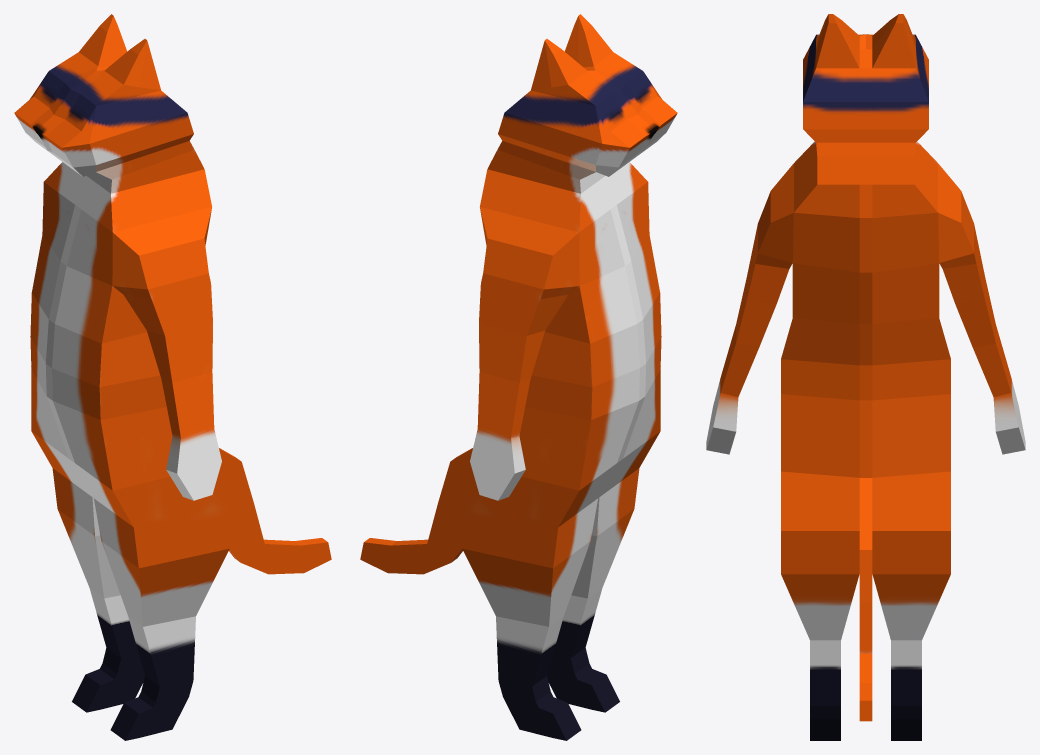
Rendered from Cat With Texture.fbx.
The picture shows the model from 3 angles, left to right: view 1: azimuth 30°, elevation 25°; view 2: azimuth 150°, elevation 25°; view 3: azimuth 270°, elevation 25°; orthographic projection. The views are drawn at different scales.
Visible parts, largest first — view 1: Cat; view 2: Cat; view 3: Cat.
Part boxes in pixels (x1,y1,x2,y2): Cat: (14, 14, 331, 740); Cat: (360, 14, 677, 740); Cat: (706, 14, 1025, 740).
Size of the model in its own units: 305 by 684 by 275.
1 material, 1 textured.
